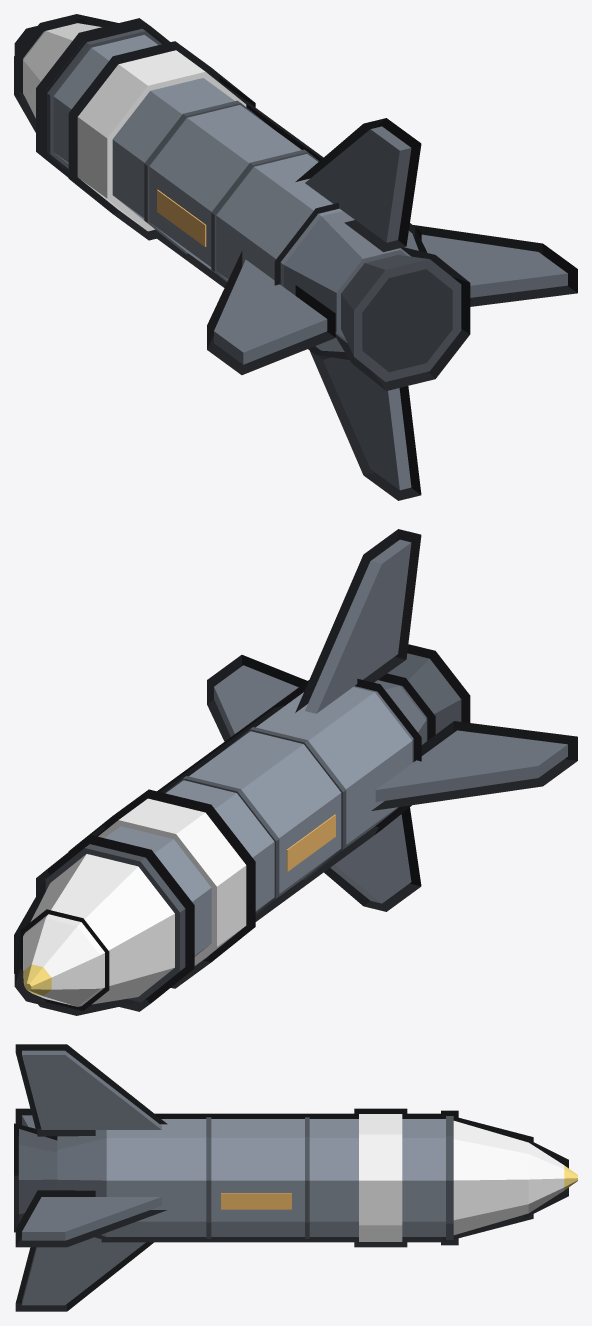
The model's file is ROCKET.gltf.
The picture shows the model from 3 angles, top to bottom: view 1: azimuth 30°, elevation 25°; view 2: azimuth 150°, elevation 25°; view 3: azimuth 270°, elevation 25°; orthographic projection. The views are drawn at different scales.
Parts seen in each view (by area): view 1: ROCKET; view 2: ROCKET; view 3: ROCKET.
Part boxes in pixels (x1=…): ROCKET: x1=14, y1=14, x2=577, y2=500; ROCKET: x1=14, y1=529, x2=577, y2=1015; ROCKET: x1=14, y1=1044, x2=577, y2=1311.
Size of the model in its own units: 0.29 by 0.29 by 0.572.
